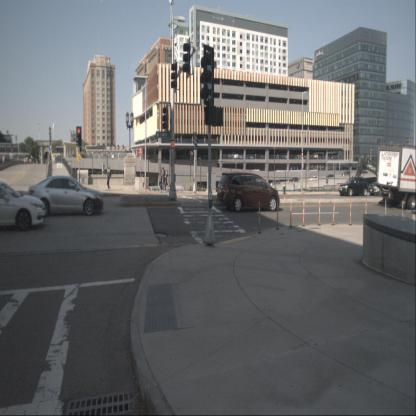human-pedestrian-adult: (162, 167, 166, 192), (107, 166, 111, 190), (159, 167, 162, 192), (166, 170, 169, 192)
movable_object-trafficcone: (331, 197, 336, 225), (363, 198, 368, 226), (384, 198, 388, 226), (318, 198, 322, 225), (289, 201, 293, 228), (276, 199, 279, 230), (258, 202, 261, 233), (302, 198, 305, 226), (349, 198, 352, 226), (401, 200, 404, 226)
vehicle-car: (28, 176, 104, 216), (216, 172, 279, 212), (0, 181, 47, 232), (338, 175, 368, 197), (368, 178, 388, 196), (289, 177, 299, 185), (230, 152, 239, 160), (270, 180, 280, 187), (309, 175, 319, 182), (308, 152, 318, 159), (342, 172, 350, 178), (226, 152, 232, 159)
vehicle-truck: (376, 143, 415, 211)
